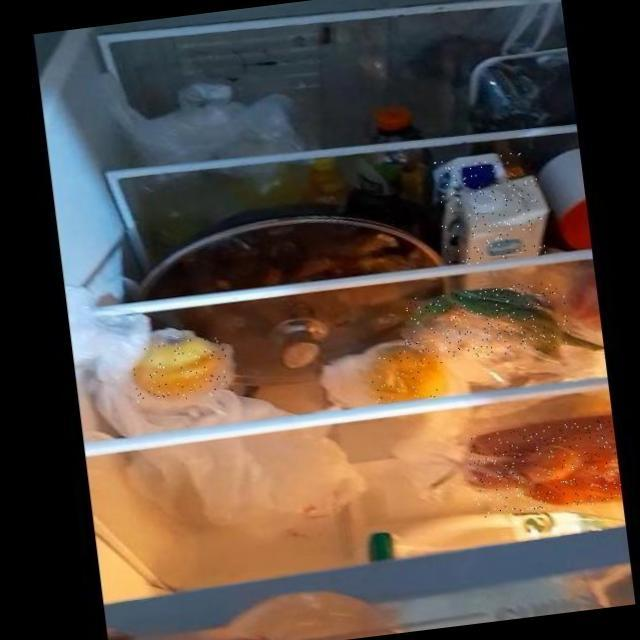Limón: (130, 335, 232, 404), (367, 344, 452, 405)
Zanahoria: (465, 417, 622, 517)
green chilies: (398, 277, 570, 367)
milk: (431, 148, 545, 266)
